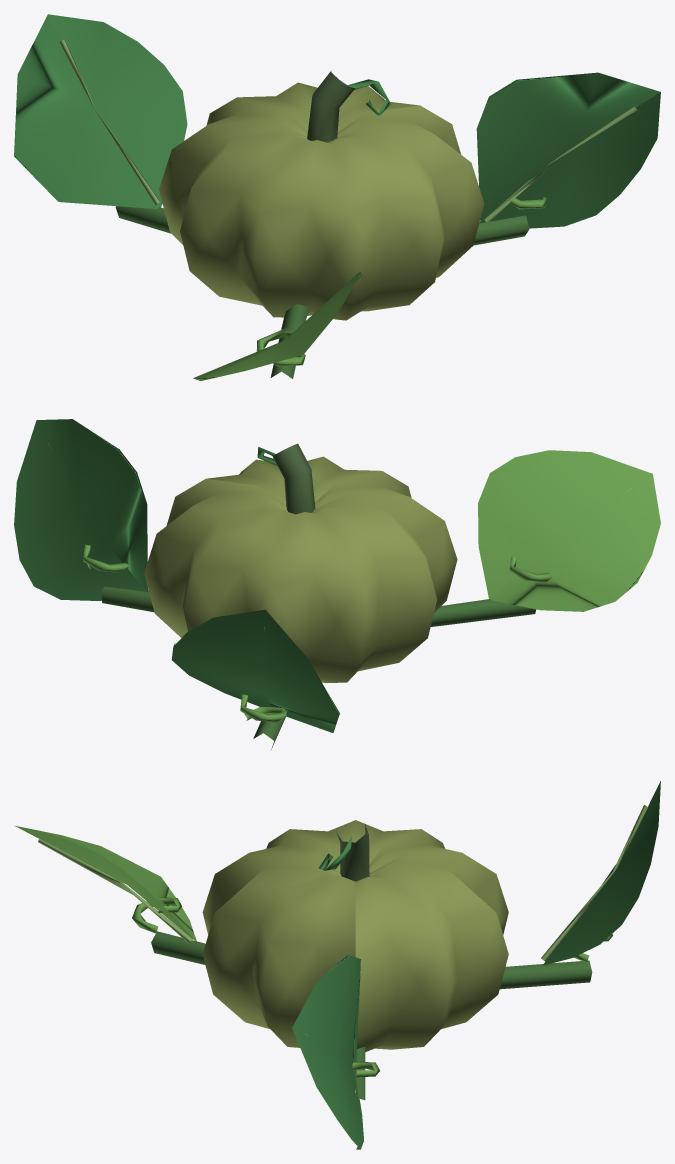
Rendered from calabaza_2_lod.glb.
The picture shows the model from 3 angles, top to bottom: view 1: azimuth 30°, elevation 25°; view 2: azimuth 150°, elevation 25°; view 3: azimuth 270°, elevation 25°; orthographic projection. The views are drawn at different scales.
Visible parts, largest first — view 1: calabaza_2_guias_0; view 2: calabaza_2_guias_0; view 3: calabaza_2_guias_0.
Part boxes in pixels (<box>): calabaza_2_guias_0: <box>14,14,660,380</box>; calabaza_2_guias_0: <box>14,419,660,749</box>; calabaza_2_guias_0: <box>14,781,660,1149</box>.
Bounding box in the file's own units: 0.6432 × 0.246 × 0.666.
